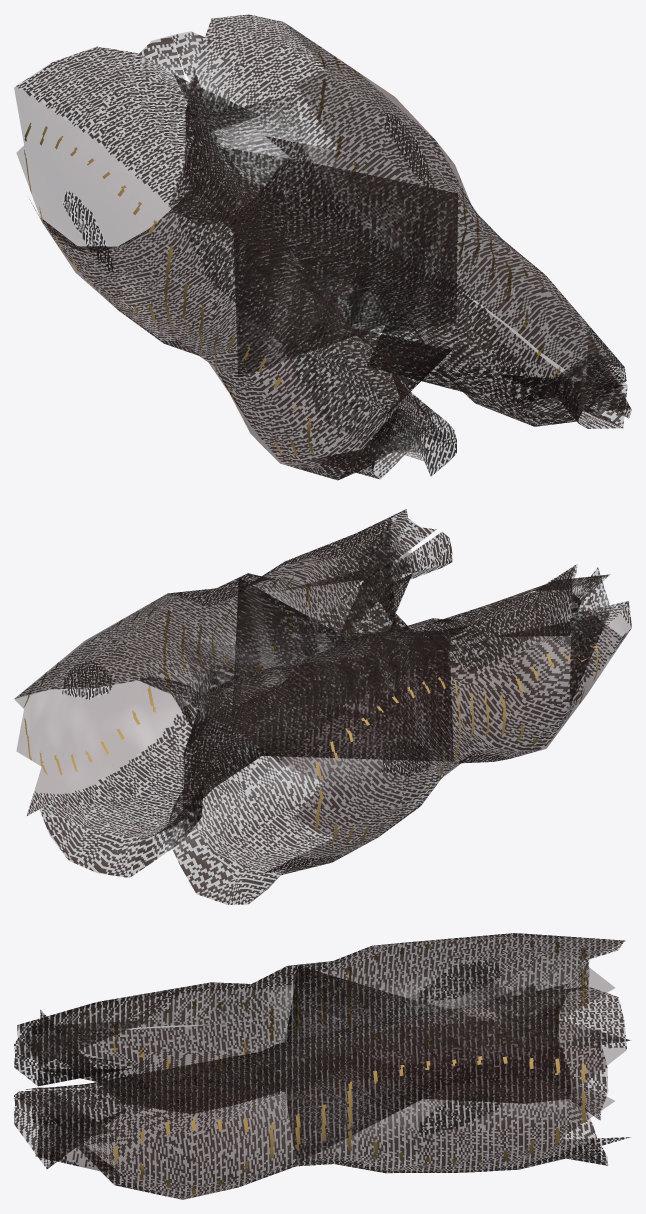
File: jambieres_rubis.glb
3 renders of one model, top to bottom at view 1: azimuth 30°, elevation 25°; view 2: azimuth 150°, elevation 25°; view 3: azimuth 270°, elevation 25°, orthographic. The views are drawn at different scales.
Parts seen in each view (by area): view 1: jambieres_rubis; view 2: jambieres_rubis; view 3: jambieres_rubis.
Part boxes in pixels (<box>): jambieres_rubis: <box>14,14,631,480</box>; jambieres_rubis: <box>14,509,631,904</box>; jambieres_rubis: <box>14,933,630,1199</box>.
Bounding box in the file's own units: 0.4195 × 0.2762 × 0.8328.
1 material, 1 textured.
